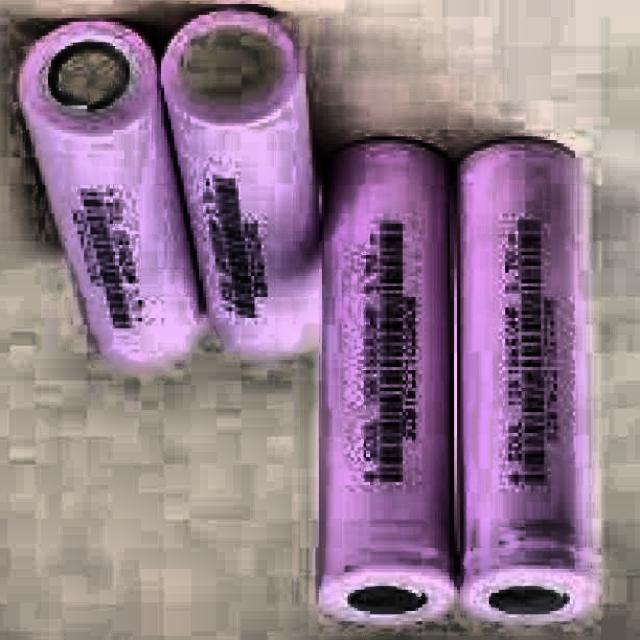battery: (315, 138, 460, 628), (457, 138, 596, 629), (20, 20, 206, 367), (160, 6, 319, 360)
